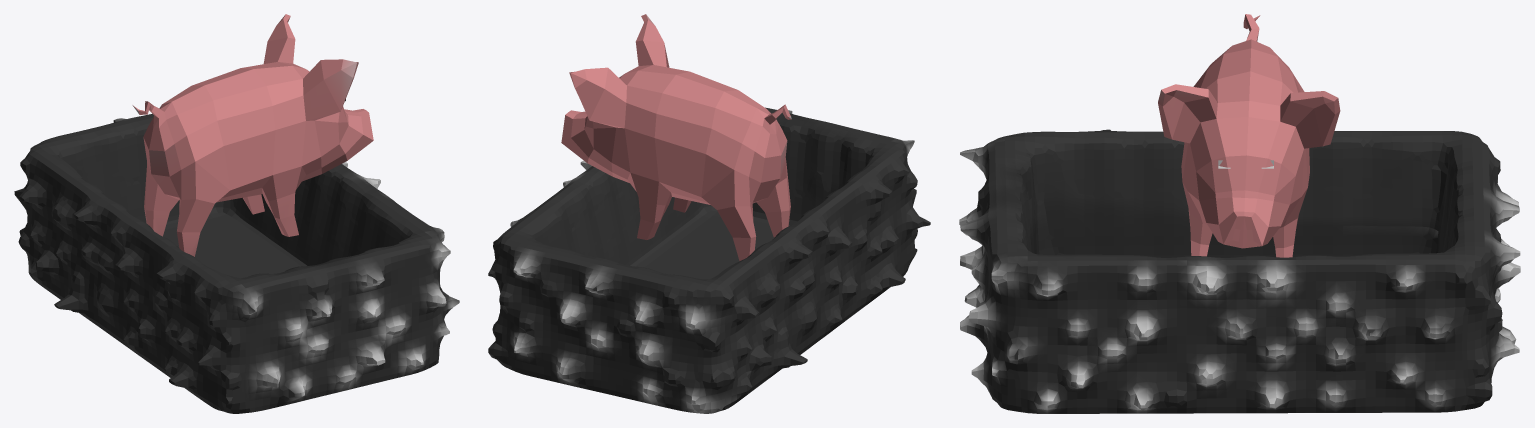
Rendered from platform.glb.
3 views of the same model, side by side, from view 1: azimuth 30°, elevation 25°; view 2: azimuth 150°, elevation 25°; view 3: azimuth 270°, elevation 25° (orthographic). The views are drawn at different scales.
Parts seen in each view (by area): view 1: Pig:PM3D_ZSphere_1; view 2: Pig:PM3D_ZSphere_1; view 3: Pig:PM3D_ZSphere_1.
Boxes of the visible parts, bbox=[...] form: Pig:PM3D_ZSphere_1: bbox=[14, 14, 459, 413]; Pig:PM3D_ZSphere_1: bbox=[488, 14, 930, 413]; Pig:PM3D_ZSphere_1: bbox=[959, 14, 1520, 413].
Size of the model in its own units: 3.87 by 3.52 by 5.68.
